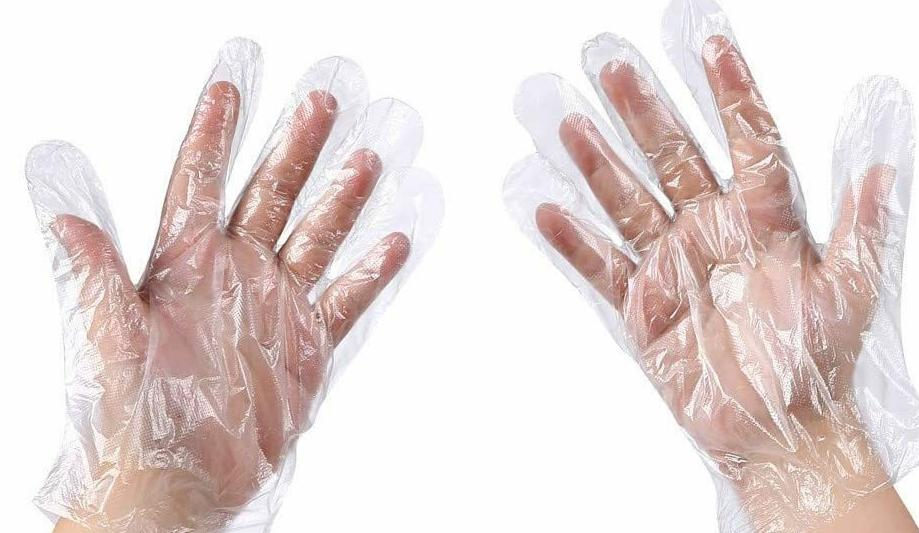gloves: (487, 46, 917, 521), (27, 54, 415, 519)
